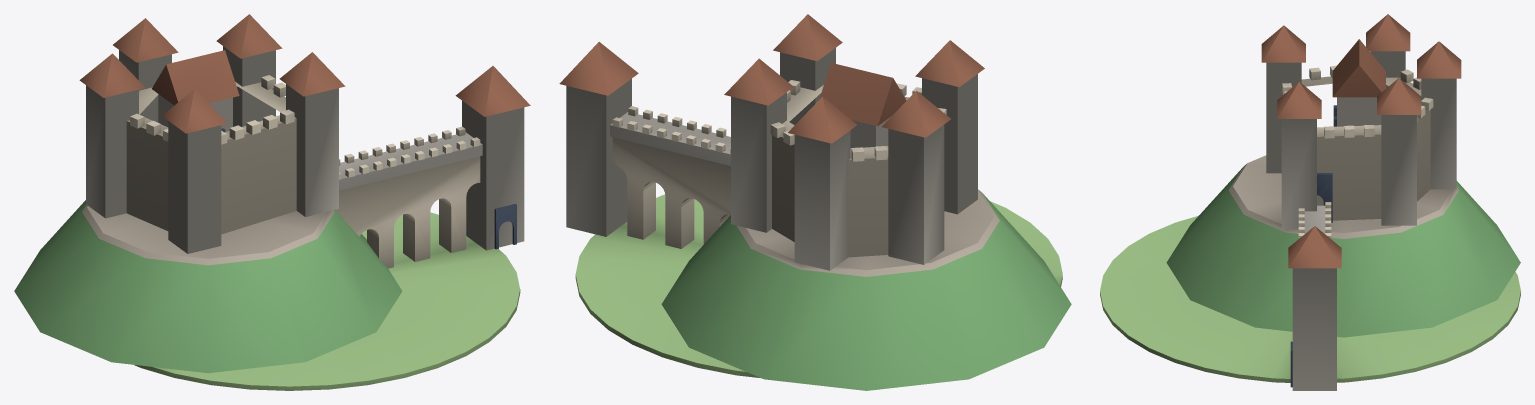
Rendered from neamt.glb.
3 views of the same model, side by side, from view 1: azimuth 30°, elevation 25°; view 2: azimuth 150°, elevation 25°; view 3: azimuth 270°, elevation 25° (orthographic). The views are drawn at different scales.
Visible parts, largest first — view 1: neamt_leafDeep, neamt_stoneGray, neamt_stone, neamt_grass, neamt_roofBrown, neamt_rock, neamt_stoneLight, neamt_window; view 2: neamt_leafDeep, neamt_stoneGray, neamt_stone, neamt_roofBrown, neamt_grass, neamt_rock, neamt_stoneLight; view 3: neamt_leafDeep, neamt_grass, neamt_stoneGray, neamt_roofBrown, neamt_stone, neamt_rock, neamt_stoneLight, neamt_window.
Part boxes in pixels (x1,y1,x2,y2): neamt_leafDeep: (14,200,402,373); neamt_stoneGray: (86,46,524,253); neamt_stone: (126,75,480,268); neamt_grass: (134,212,520,390); neamt_roofBrown: (79,14,530,133); neamt_rock: (82,205,334,265); neamt_stoneLight: (158,94,482,190); neamt_window: (221,128,516,249); neamt_leafDeep: (661,194,1071,390); neamt_stoneGray: (566,48,977,270); neamt_stone: (612,80,946,257); neamt_roofBrown: (559,14,984,143); neamt_grass: (575,194,1062,377); neamt_rock: (737,189,999,276); neamt_stoneLight: (610,112,891,165); neamt_leafDeep: (1166,167,1520,337); neamt_grass: (1100,216,1520,382); neamt_stoneGray: (1266,51,1456,390); neamt_roofBrown: (1261,14,1461,268); neamt_stone: (1282,65,1433,238); neamt_rock: (1228,155,1458,238); neamt_stoneLight: (1304,97,1381,233); neamt_window: (1290,105,1336,387).
Bounding box in the file's own units: 2.19 × 1.1 × 1.9.
